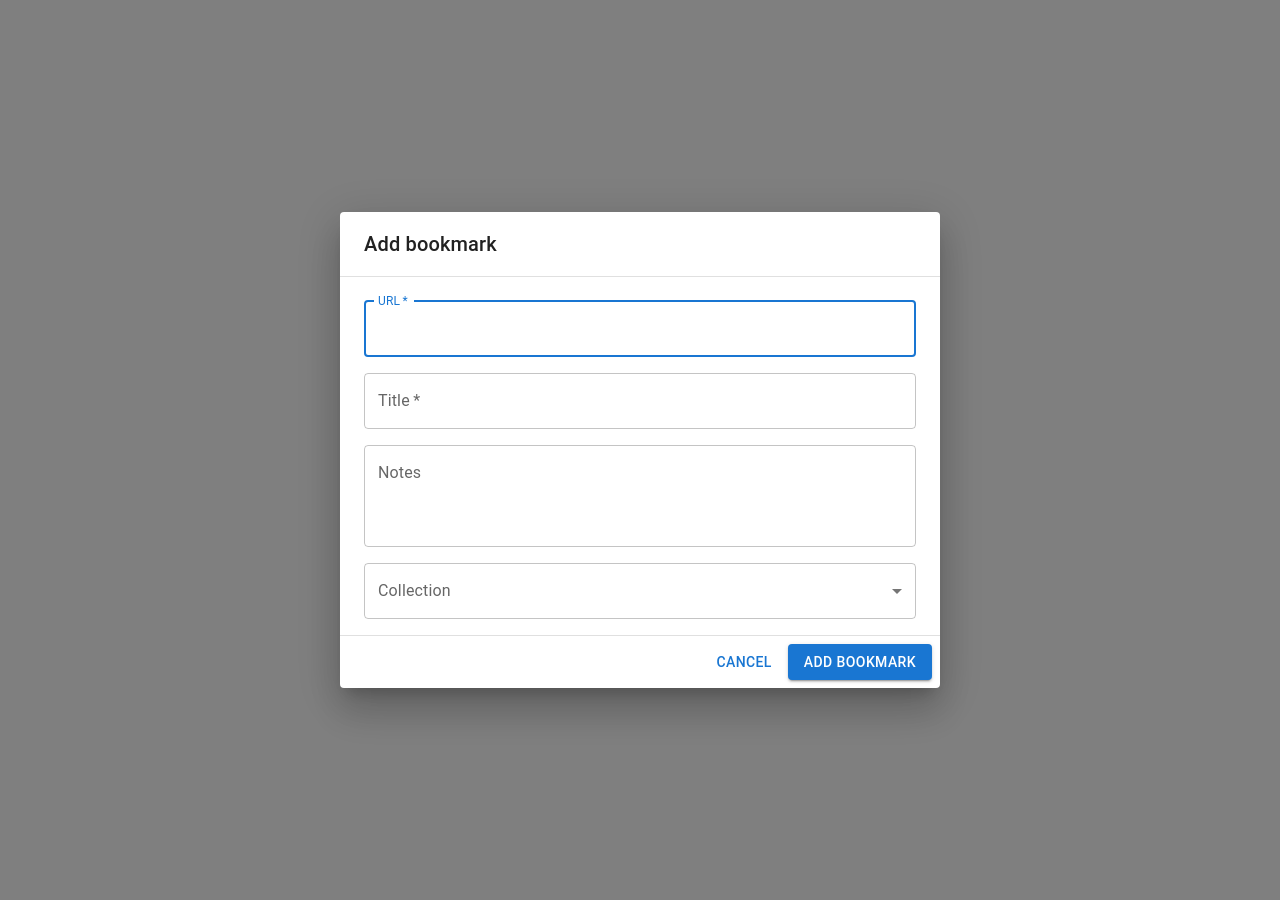
Scenario: BookmarkFormDialog › disables the submit action while a save is pending
Type "https://example.com/new" into the field labelled "URL *".
click(640, 329); type("https://example.com/new")  # box [364,301,916,357]
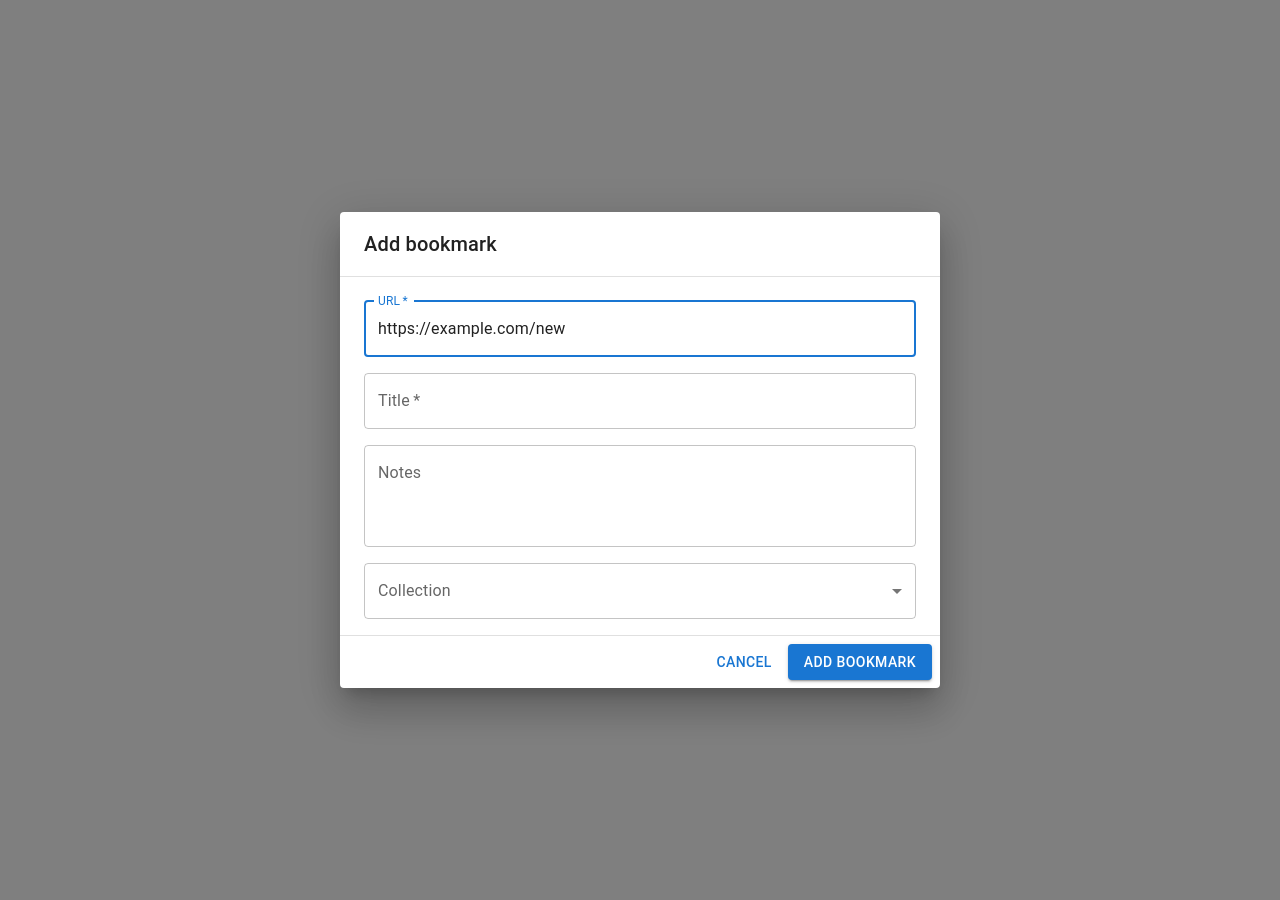
Type "New bookmark" into the field labelled "Title *".
click(640, 401); type("New bookmark")  # box [364,373,916,429]
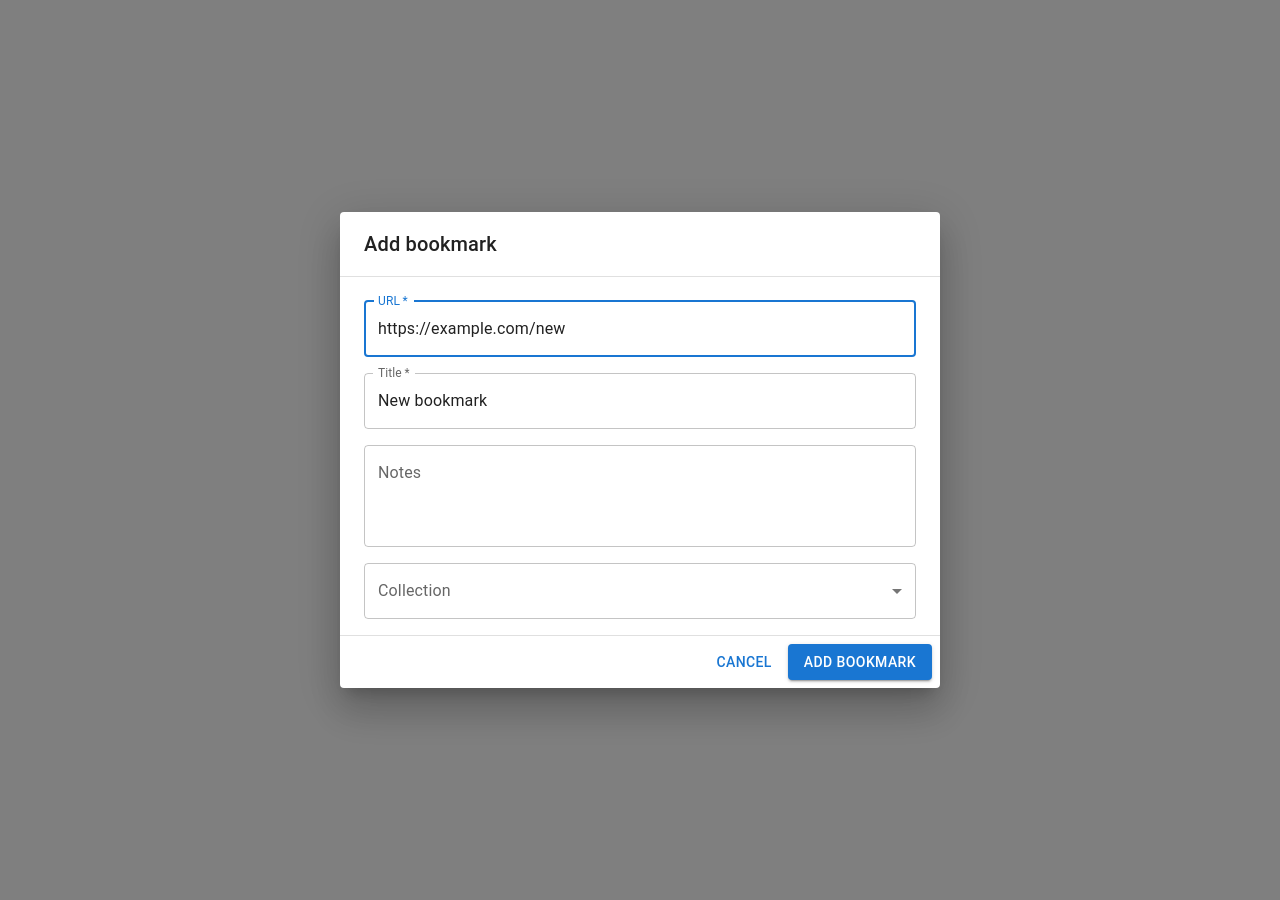
Click the button "Add bookmark".
click(860, 662)  # box [788,644,932,680]
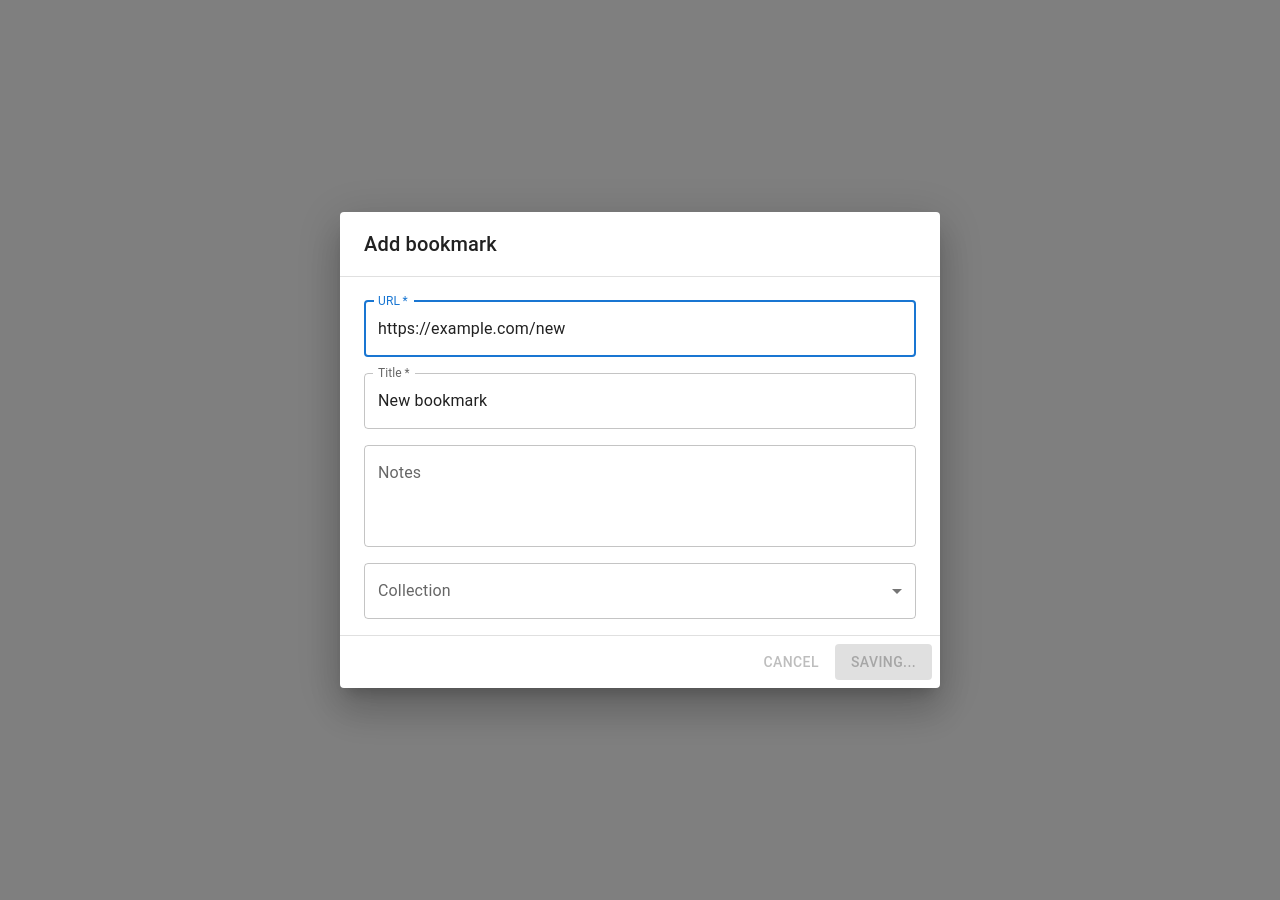
Now the button "Saving..." is disabled, box [835,644,932,680]
Now the button "Cancel" is disabled, box [756,644,827,680]
